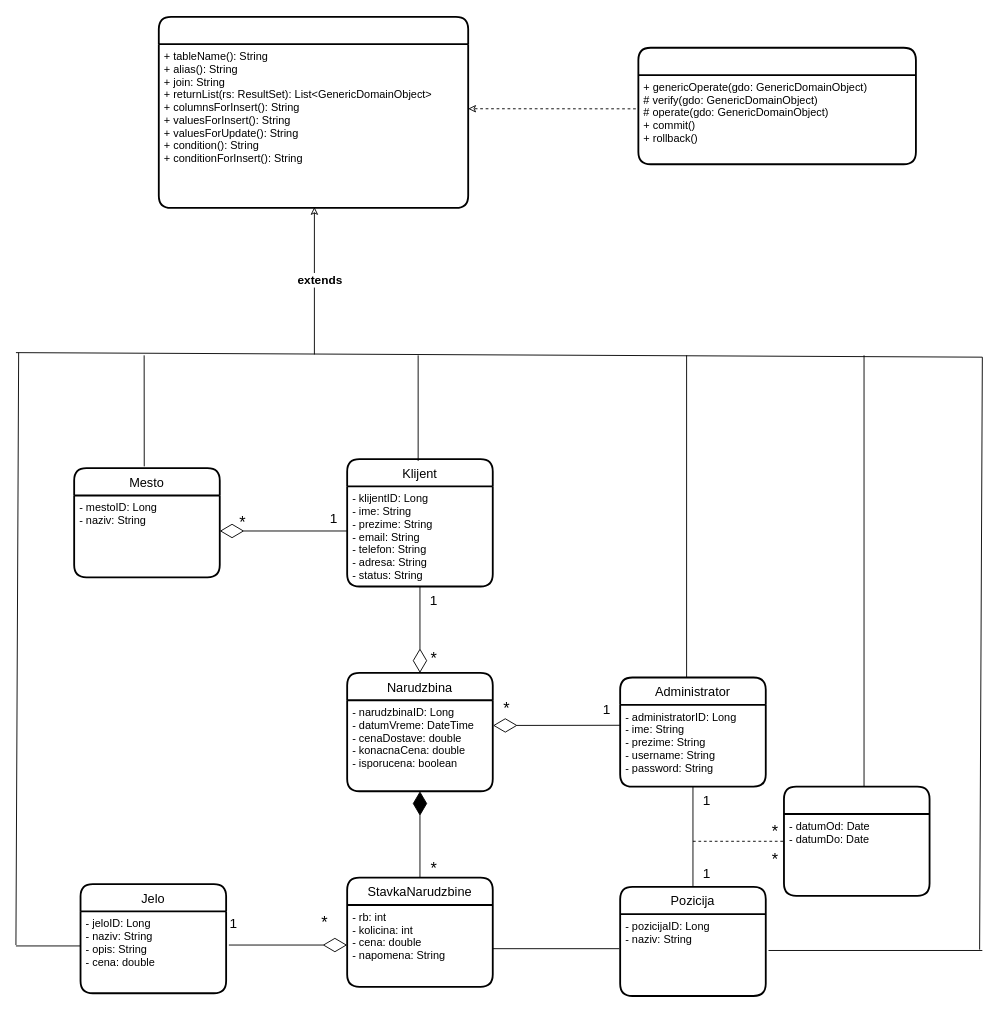
The diagram is 999 pixels wide and 1012 high, and some of its shapes have lost their labels. Here are the shapes that lost their labels. From the top down, the box of each, then its label:
(157, 15, 469, 208): GenericDomainObject
(637, 46, 916, 165): GenericSO
(783, 785, 930, 896): AdP
